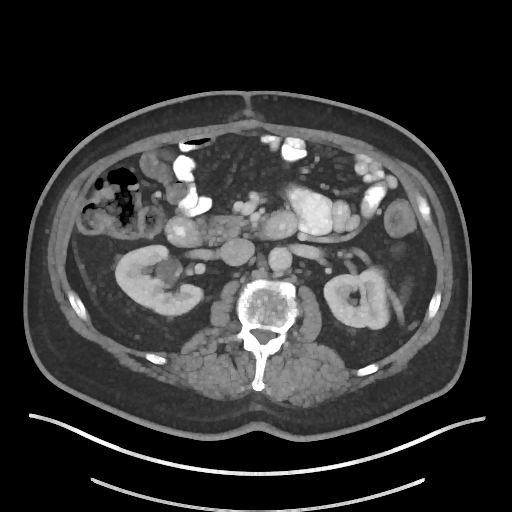Lesion: (153, 256, 184, 290)
